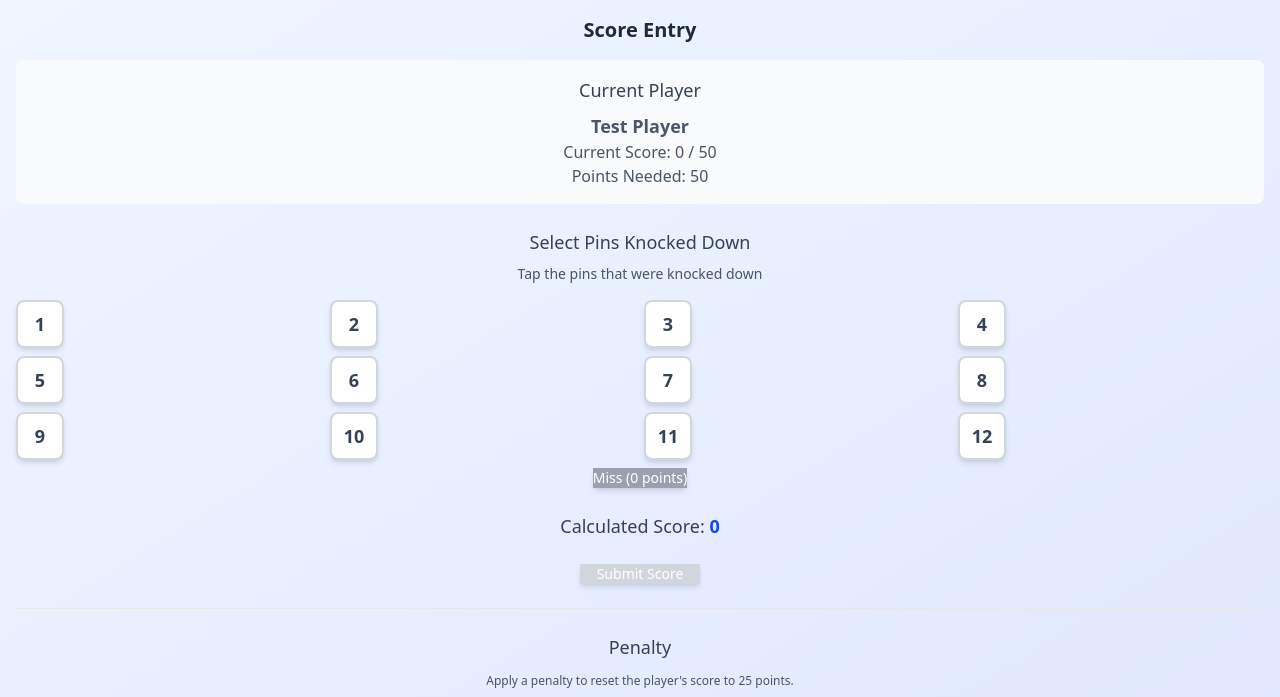
Test case: ScoreInput Component - New Interface › Multiple Pin Selection › should show correct calculated score for multiple pins
The image size is (1280, 697).
What coordinates should you click on to do the following:
click the button "1"
I would click on:
 (40, 324)
Its box is [16,300,64,348].
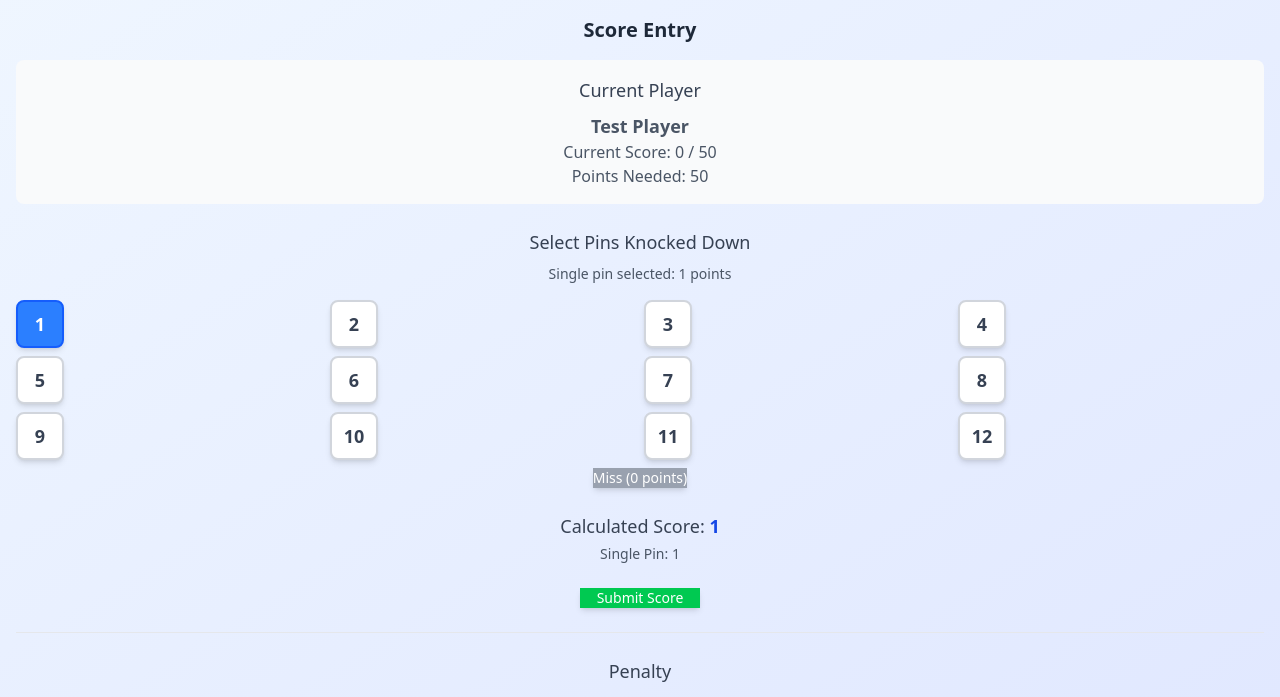
What coordinates should you click on to do the following:
click the button "4"
I would click on:
 (982, 324)
Its box is [958,300,1006,348].
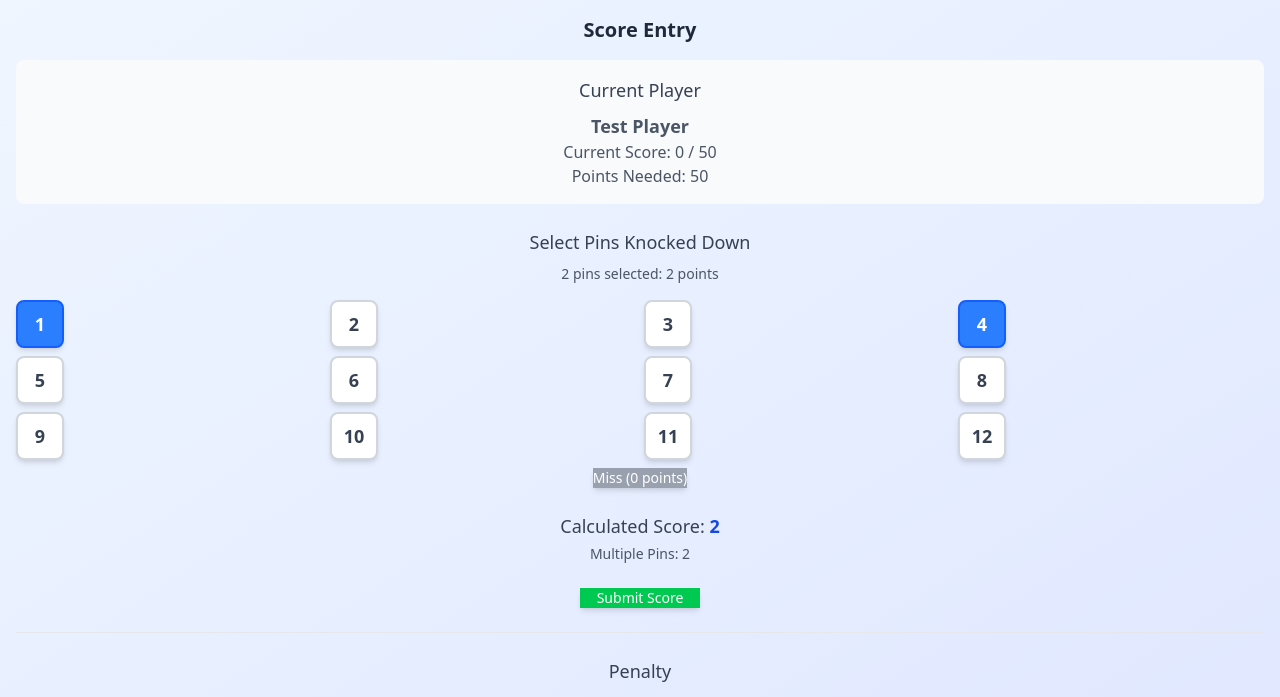
What coordinates should you click on to do the following:
click the button "7"
I would click on:
 (668, 380)
Its box is [644,356,692,404].
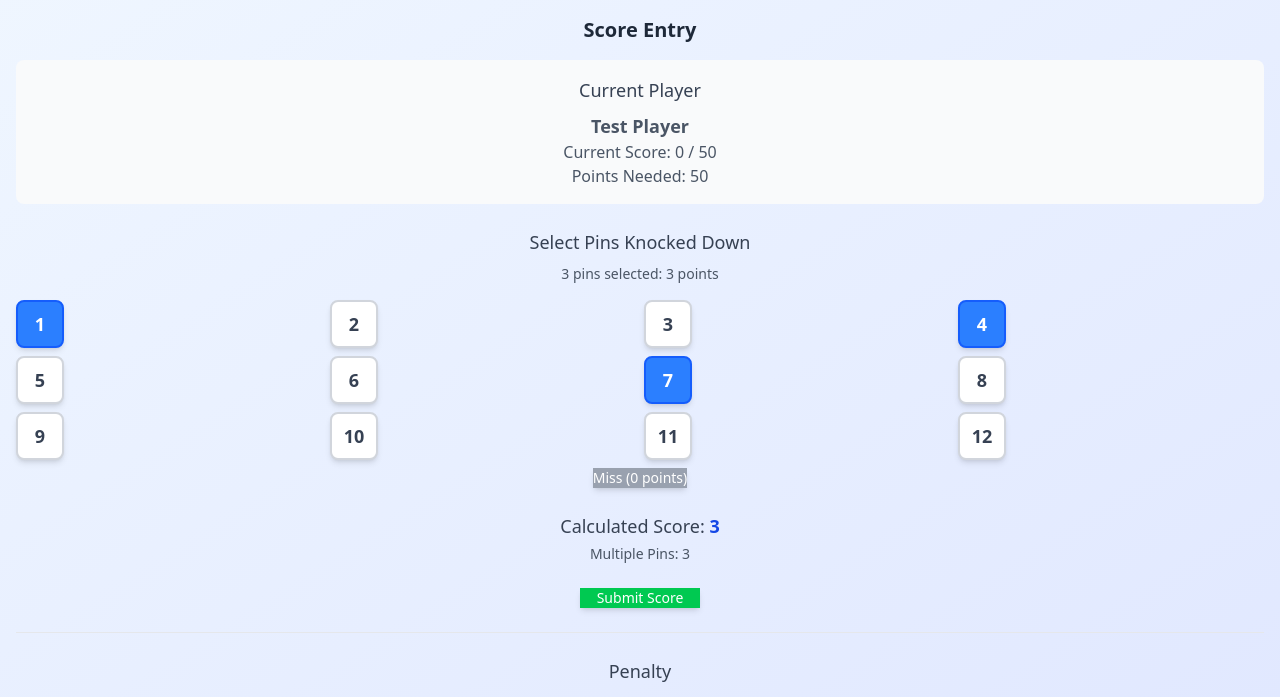
What coordinates should you click on to do the following:
click the button "10"
I would click on:
 (354, 436)
Its box is [330,412,378,460].
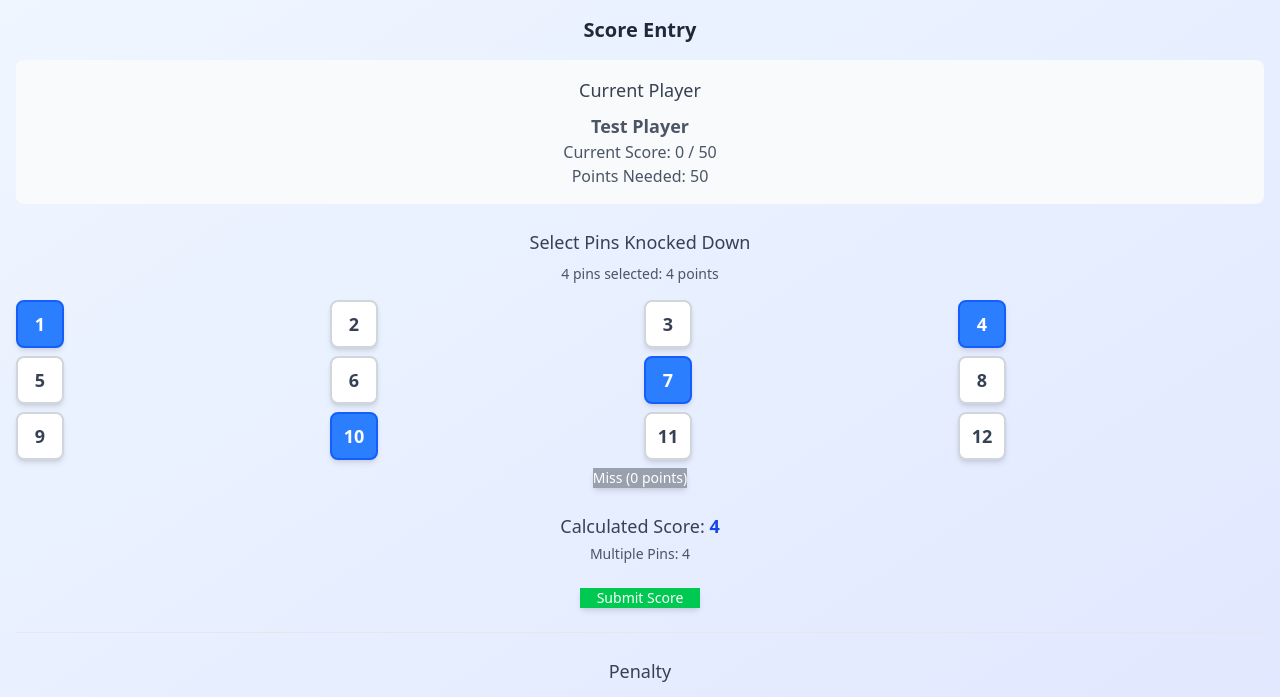
expect the text "Calculated Score:" is shown: met, box [560,514,705,538]
expect the text "Calculated Score: 4" is shown: met, box [560,514,720,538]
expect the text "Multiple Pins: 4" is shown: met, box [590,544,690,563]
